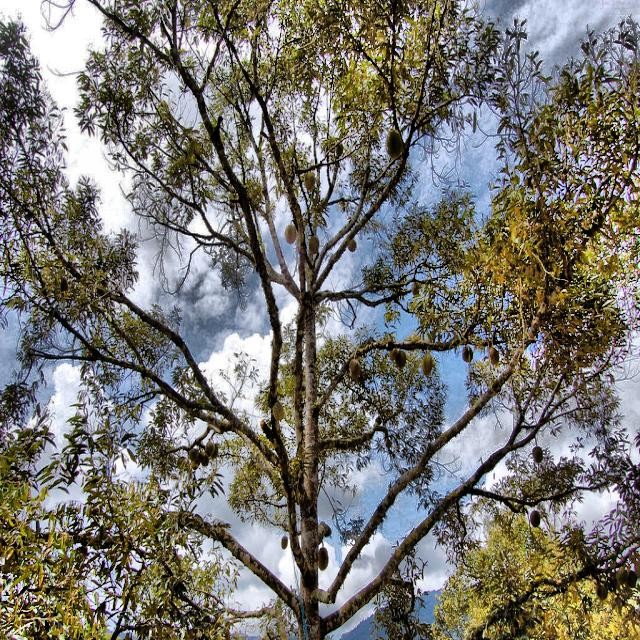arvore: (281, 213, 335, 640)
